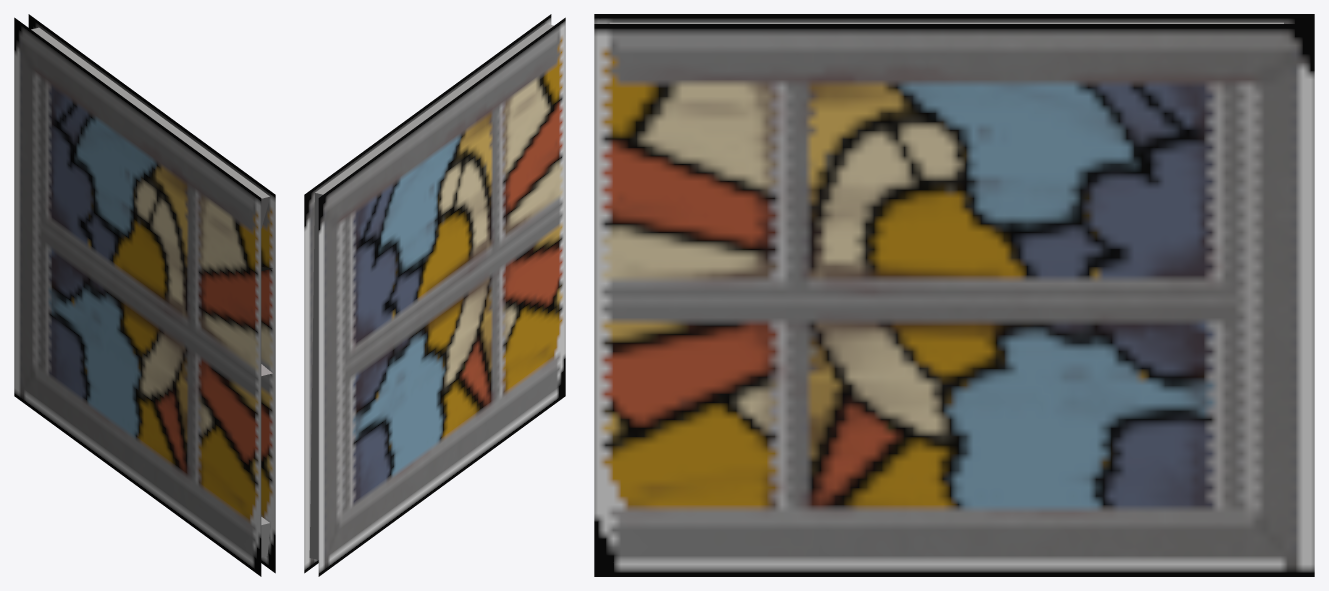
Rendered from pz_native_location_community_church_small_01_80_frame.obj.
3 views of the same model, side by side, from view 1: azimuth 30°, elevation 25°; view 2: azimuth 150°, elevation 25°; view 3: azimuth 270°, elevation 25° (orthographic). The views are drawn at different scales.
Visible parts, largest first — view 1: pz_native_location_community_church_small_01_80_frame; view 2: pz_native_location_community_church_small_01_80_frame; view 3: pz_native_location_community_church_small_01_80_frame.
Part boxes in pixels (x1=…): pz_native_location_community_church_small_01_80_frame: x1=14, y1=14, x2=275, y2=576; pz_native_location_community_church_small_01_80_frame: x1=304, y1=14, x2=565, y2=576; pz_native_location_community_church_small_01_80_frame: x1=594, y1=14, x2=1314, y2=576.
Size of the model in its own units: 0.04 by 1.02 by 1.2.
Materials: 1 (1 with a texture image).
